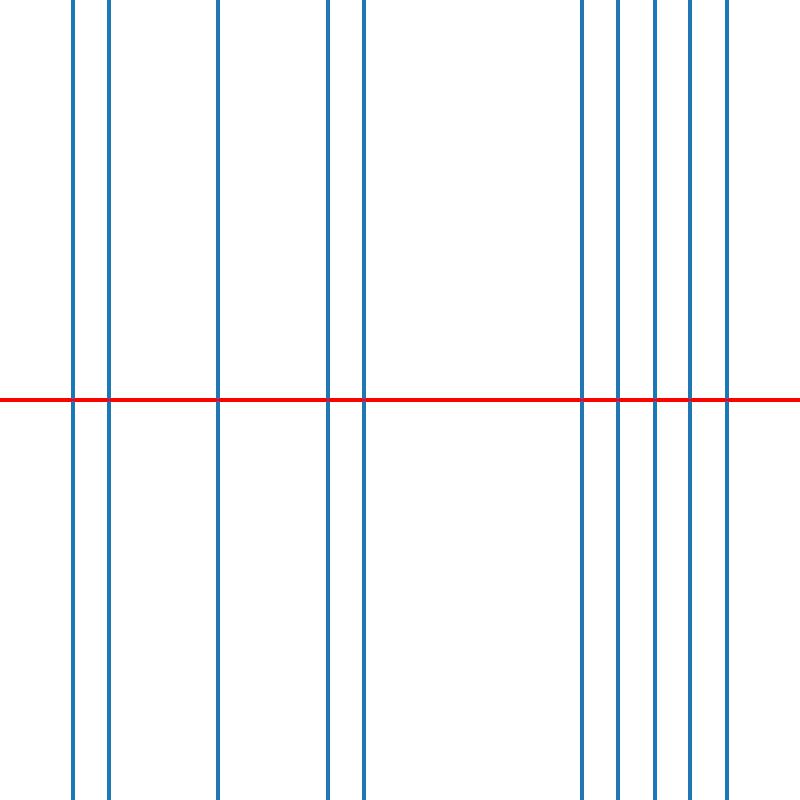root: (650, 396, 658, 404), (323, 396, 330, 404), (360, 396, 367, 404), (105, 396, 112, 404), (723, 396, 730, 404), (614, 396, 621, 404), (578, 396, 585, 404), (687, 396, 694, 404), (69, 396, 76, 404), (214, 396, 221, 404)
